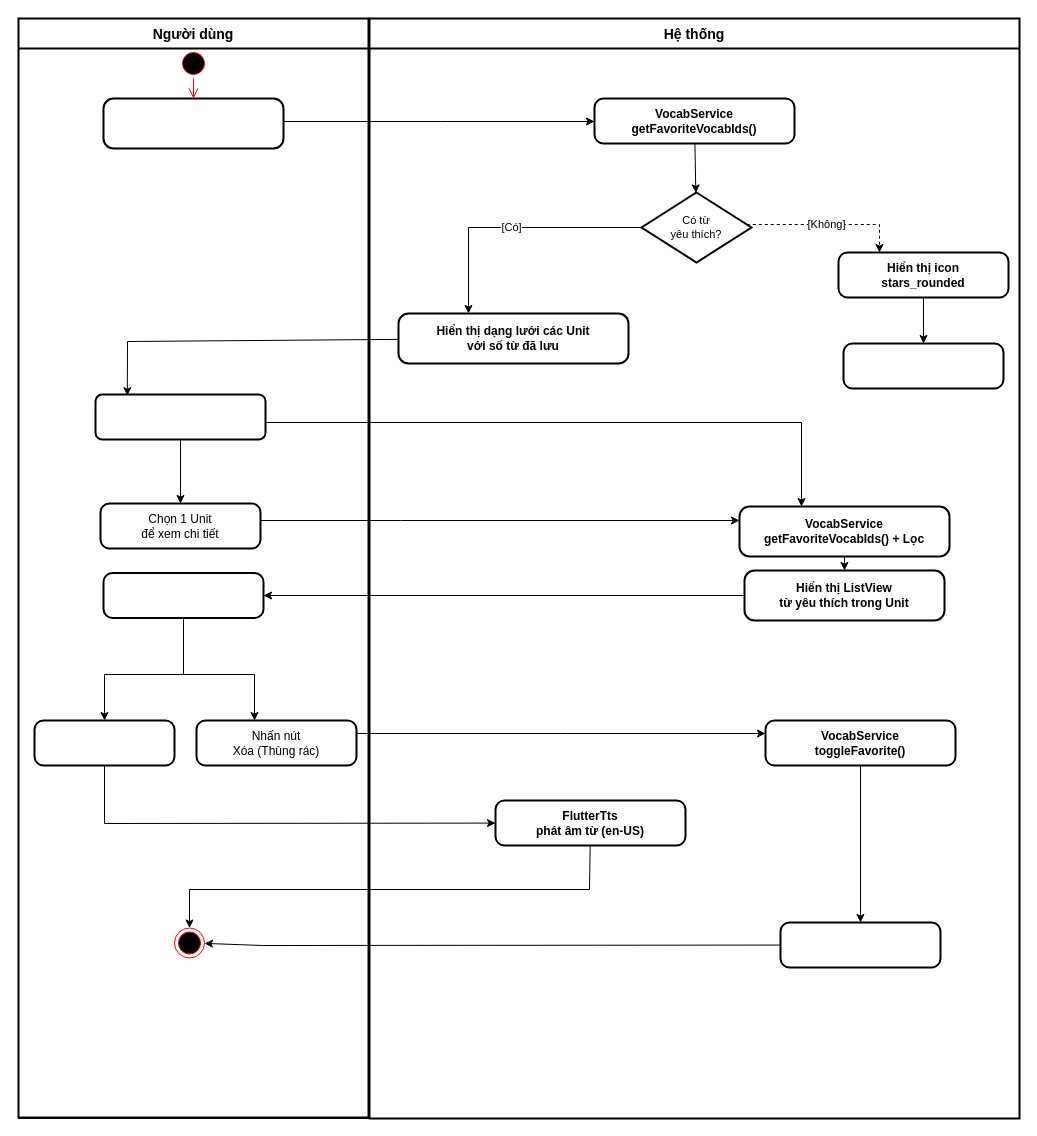
The diagram is 1037 pixels wide and 1136 high, and some of its shapes have lost their labels. Each missing label, with the centre of its shape:
"Bạn chưa lưu từ vựng nào!": (x=923, y=365)
Hiển thị "Đã xóa...": (x=860, y=944)
Mở màn hình Kho từ vựng của tôi: (x=193, y=123)
Nhấn nút Loa (TTS): (x=104, y=742)
Xem danh sách các Unit có từ yêu thích: (x=180, y=416)
Xem danh sách từ yêu thích: (x=183, y=595)
